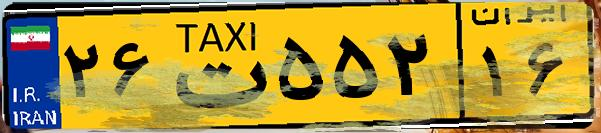1: (475, 38, 525, 113)
2: (385, 28, 445, 110), (57, 26, 110, 100)
5: (270, 28, 330, 110), (330, 28, 385, 110)
6: (525, 38, 570, 115), (110, 28, 158, 98)
ت: (158, 12, 270, 120)
